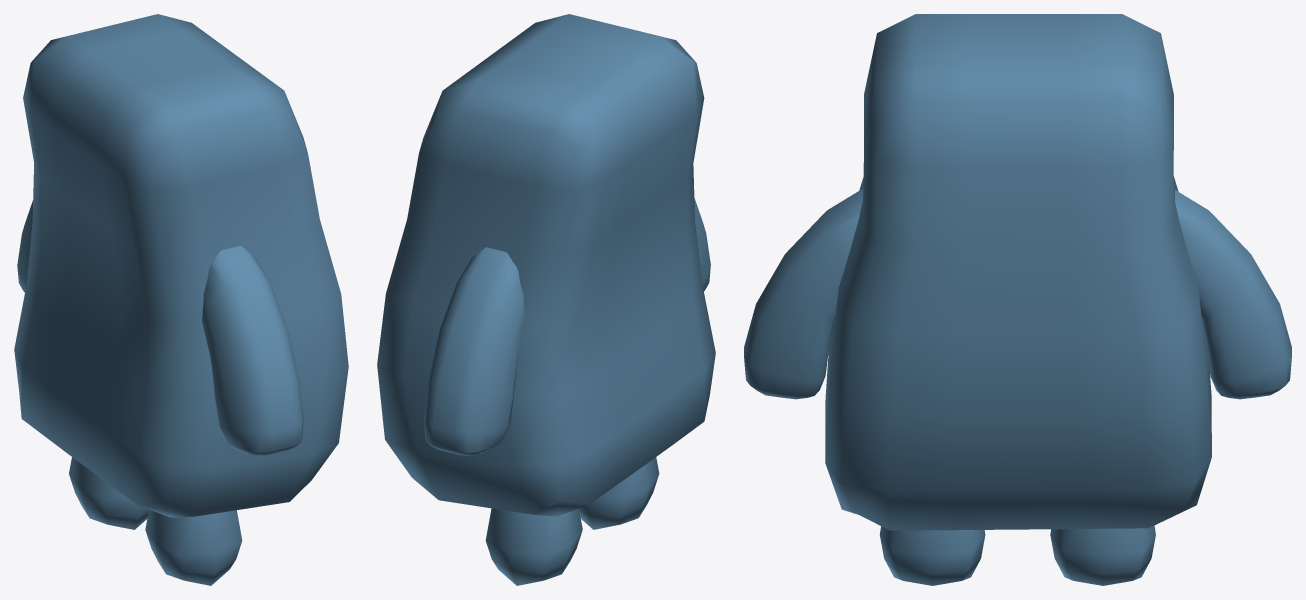
The model's file is BuddyHuman.fbx.
3 views of the same model, side by side, from view 1: azimuth 30°, elevation 25°; view 2: azimuth 150°, elevation 25°; view 3: azimuth 270°, elevation 25° (orthographic). The views are drawn at different scales.
Parts seen in each view (by area): view 1: pCube13, pCube14, Foot3, Foot4, pCube15; view 2: pCube13, pCube15, Foot4, Foot3, pCube14; view 3: pCube13, pCube14, pCube15, Foot4, Foot3.
Part boxes in pixels (box(x1,y1,x2,y2)): pCube13: box(14, 14, 348, 517); pCube14: box(202, 246, 303, 455); Foot3: box(145, 509, 242, 585); Foot4: box(69, 457, 148, 529); pCube15: box(17, 200, 33, 292); pCube13: box(377, 14, 715, 516); pCube15: box(424, 247, 525, 455); Foot4: box(485, 508, 582, 585); Foot3: box(579, 457, 659, 529); pCube14: box(694, 198, 710, 291); pCube13: box(825, 14, 1211, 530); pCube14: box(744, 188, 862, 399); pCube15: box(1175, 190, 1291, 399); Foot4: box(1050, 525, 1155, 585); Foot3: box(879, 526, 985, 585).
Bounding box in the file's own units: 0.7063 × 1.6 × 1.45.
